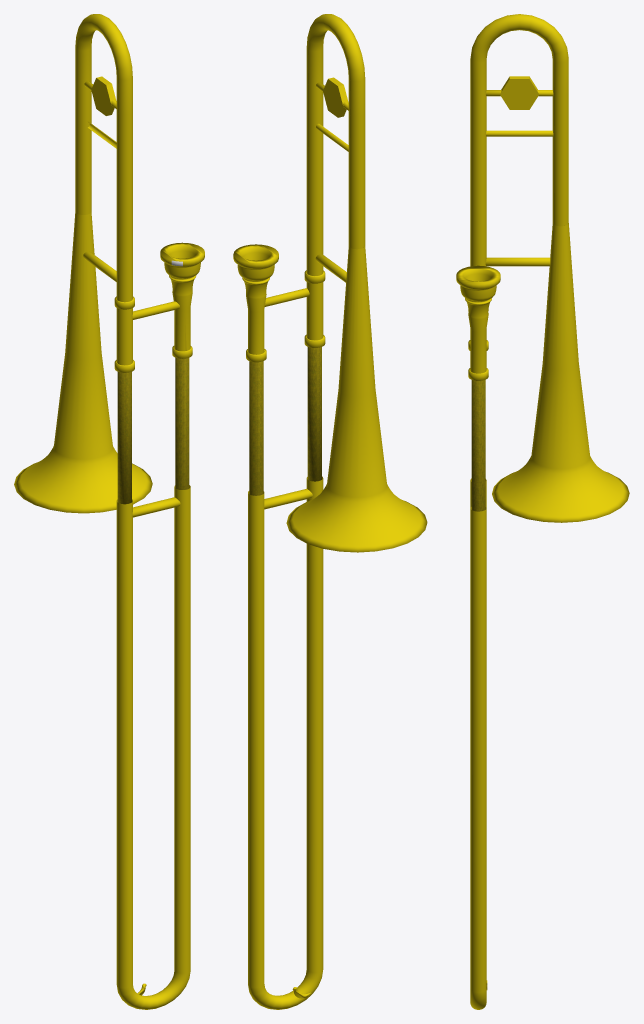
The model's file is Trombone.fbx.
3 renders of one model, left to right at view 1: azimuth 30°, elevation 25°; view 2: azimuth 210°, elevation 25°; view 3: azimuth 270°, elevation 25°, orthographic. The views are drawn at different scales.
Visible parts, largest first — view 1: Model; view 2: Model; view 3: Model.
Boxes of the visible parts, x1,y1,x2,y2 form: Model: (14, 14, 204, 1009); Model: (233, 14, 427, 1009); Model: (456, 14, 629, 1009).
Bounding box in the file's own units: 5.3 × 36.24 × 5.83.
